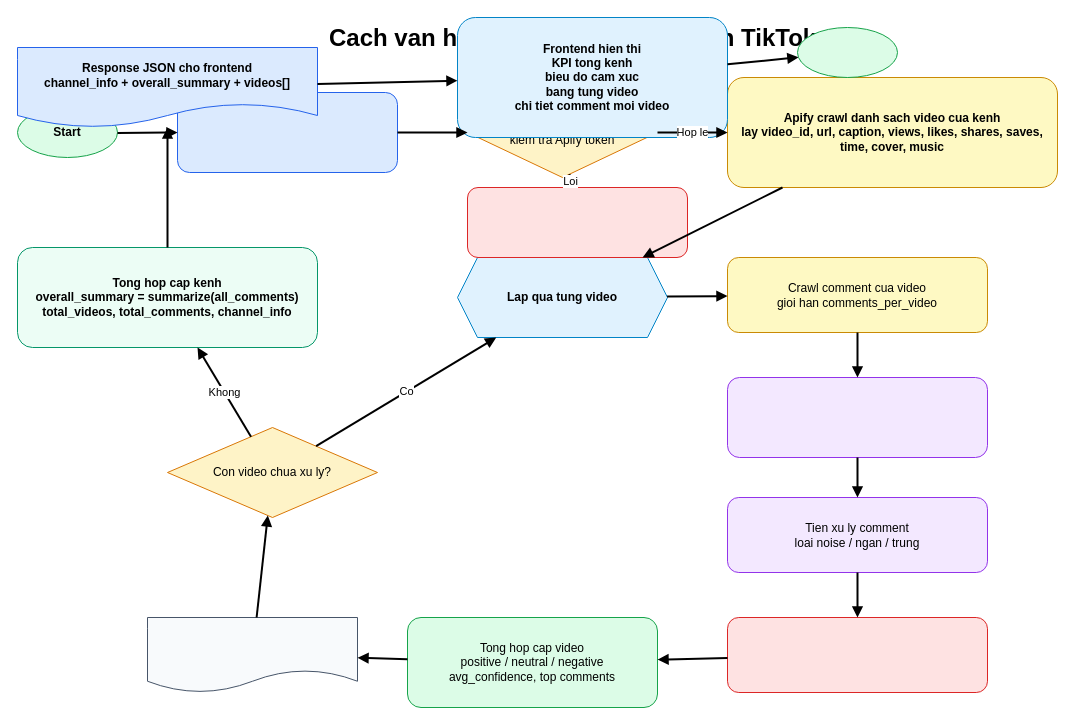
Image size: 1075x725. Some labels were removed from this diagram. The shapes that lost their labels are listed below. From the top down, each one's centre as x and y in pixels, then its label:
At point (847, 52): "End".
At point (287, 132): "Nhap username kenh max_videos, comments_per_video".
At point (577, 222): "Tra loi loi tieng Viet token thieu, timeout, khong co du lieu".
At point (857, 417): "Chuan hoa record comment text, author, likes, cid, created_at, video_id".
At point (252, 654): "Luu vao videos_result[]".
At point (857, 654): "PhoBERT inference theo batch tra sentiment + confidence".
